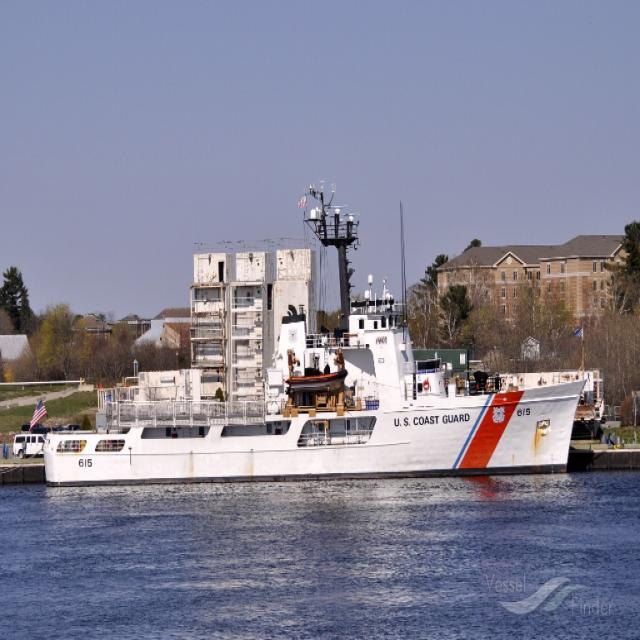OCR: (389, 412, 473, 432), (512, 402, 533, 420), (78, 452, 92, 476)
